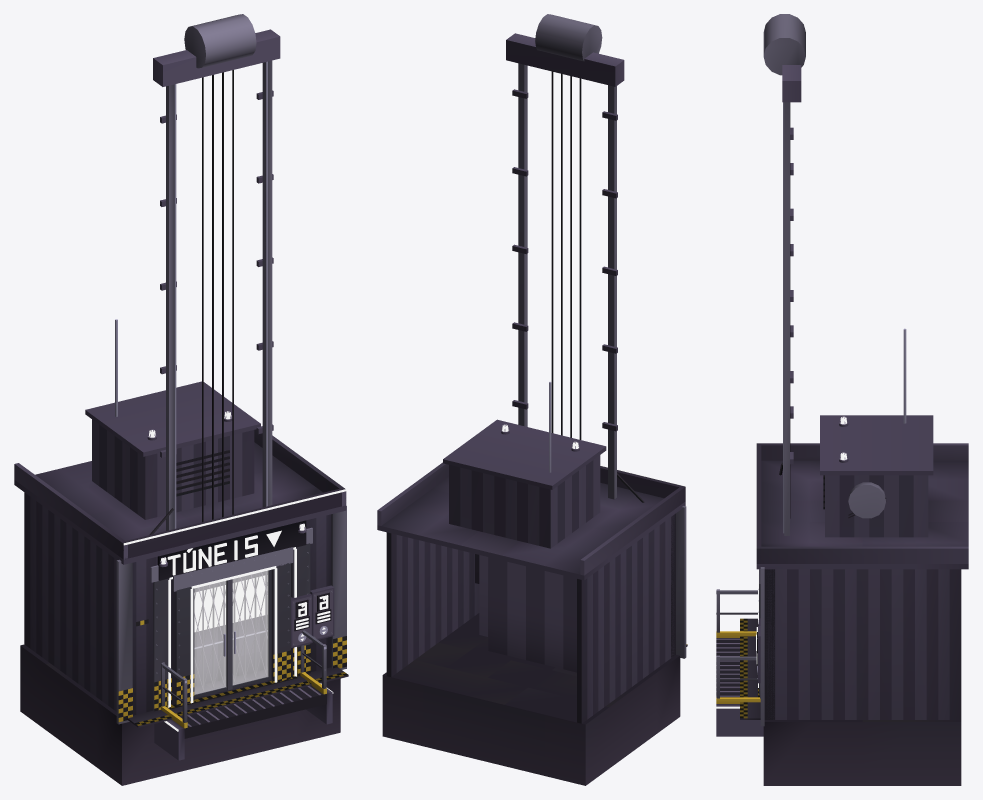
The model's file is elevadores.glb.
3 renders of one model, left to right at view 1: azimuth 30°, elevation 25°; view 2: azimuth 150°, elevation 25°; view 3: azimuth 270°, elevation 25°, orthographic. The views are drawn at different scales.
Visible parts, largest first — view 1: chegada_solido, entrada_solido, chegada_vidro, passarela_solido, entrada_luz, chegada_neon, c_letreiro_neon, entrada_neon; view 2: chegada_solido, entrada_solido; view 3: chegada_solido, entrada_solido, passarela_solido.
Boxes of the visible parts, x1,y1,x2,y2 form: chegada_solido: [14, 319, 348, 785]; entrada_solido: [136, 14, 334, 711]; chegada_vidro: [194, 570, 268, 694]; passarela_solido: [154, 630, 332, 760]; entrada_luz: [160, 523, 325, 633]; chegada_neon: [123, 489, 346, 703]; c_letreiro_neon: [167, 530, 281, 575]; entrada_neon: [168, 547, 296, 707]; chegada_solido: [377, 381, 687, 785]; entrada_solido: [475, 14, 644, 636]; chegada_solido: [740, 328, 968, 785]; entrada_solido: [757, 14, 805, 697]; passarela_solido: [716, 589, 763, 736].
Bounding box in the file's own units: 5.44 × 16.59 × 5.35.
